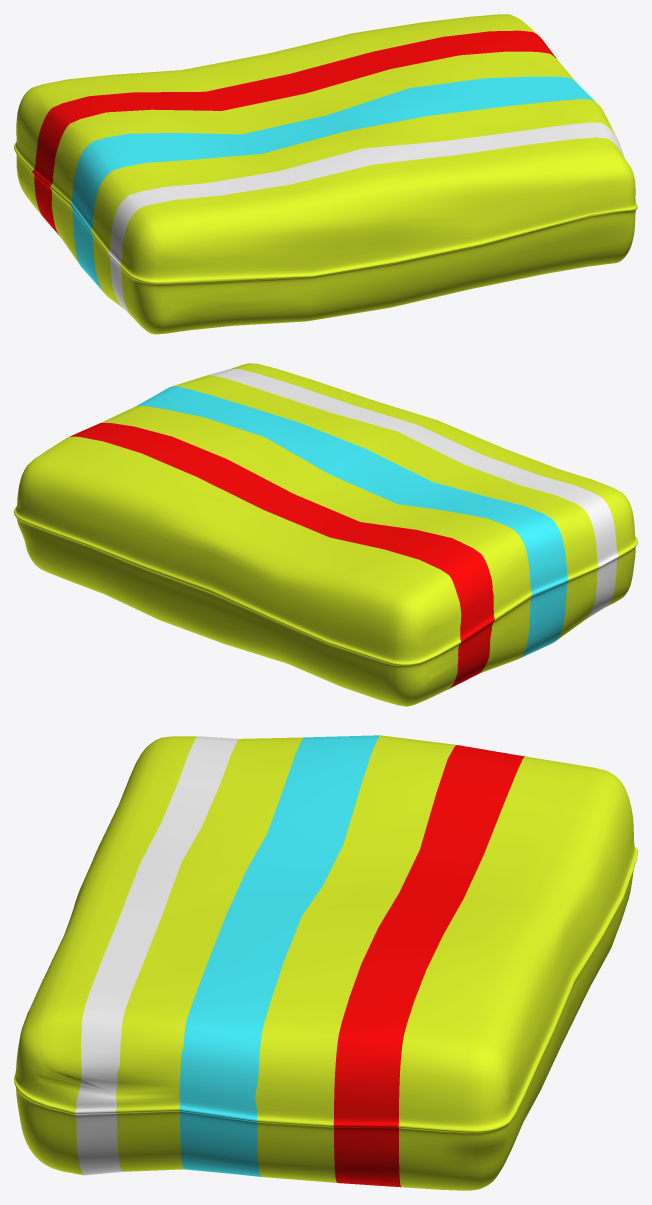
File: 1cbd0417-648e-4493-9b0b-750946030d33.glb
The picture shows the model from 3 angles, top to bottom: view 1: azimuth 30°, elevation 25°; view 2: azimuth 150°, elevation 25°; view 3: azimuth 270°, elevation 25°; orthographic projection. The views are drawn at different scales.
Parts seen in each view (by area): view 1: Box001; view 2: Box001; view 3: Box001.
Part boxes in pixels (bbox=[...]): Box001: bbox=[14, 14, 637, 334]; Box001: bbox=[14, 363, 637, 706]; Box001: bbox=[14, 735, 637, 1190].
Bounding box in the file's own units: 254927 × 68092 × 199161.
